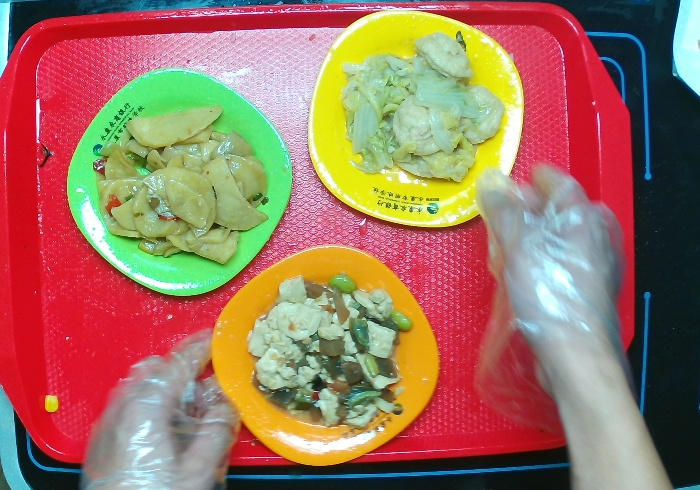YKMZ-Huang_Se_Fang_Die: (306, 8, 526, 229)
YKMZ-Ju_Se_Fang_Die: (209, 241, 441, 466)
YKMZ-Lv_Se_Fang_Die: (65, 66, 294, 297)
